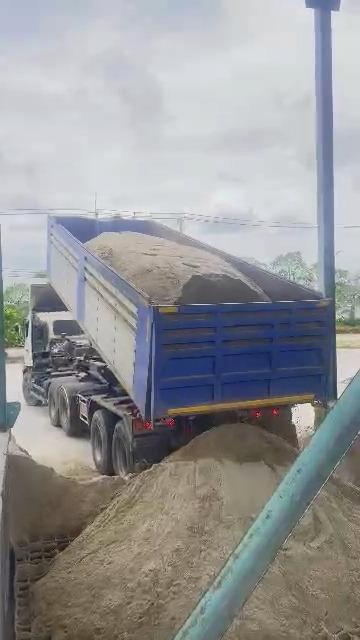sand: (34, 425, 294, 639), (227, 480, 360, 638), (86, 232, 268, 303), (7, 443, 123, 545), (336, 435, 360, 487)
